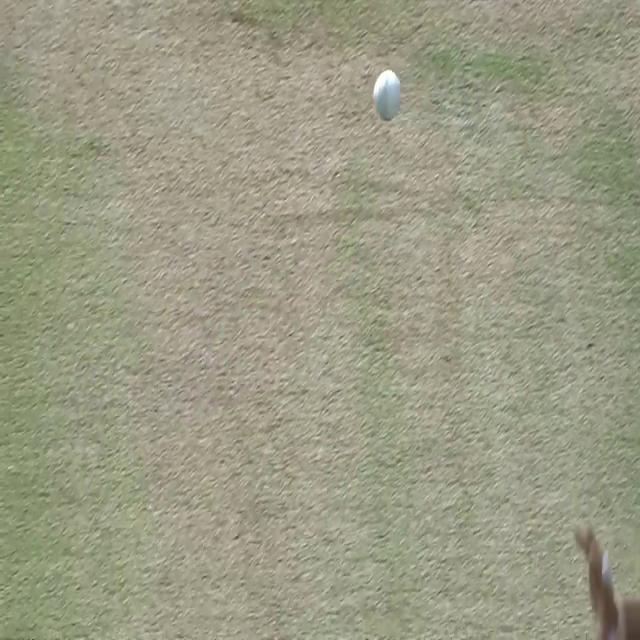ball: (372, 68, 403, 120)
